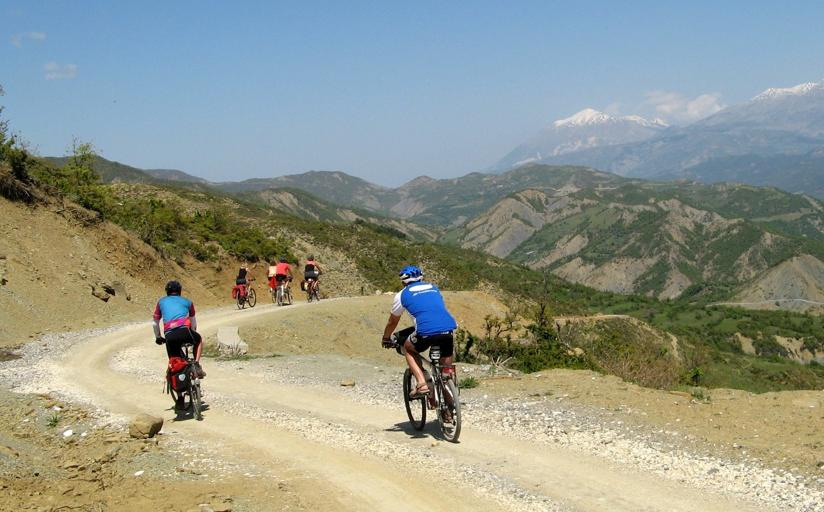non-vehicle: (376, 336, 459, 447), (155, 332, 203, 421), (233, 278, 256, 310), (300, 270, 322, 301), (275, 275, 294, 306), (268, 278, 277, 303)
